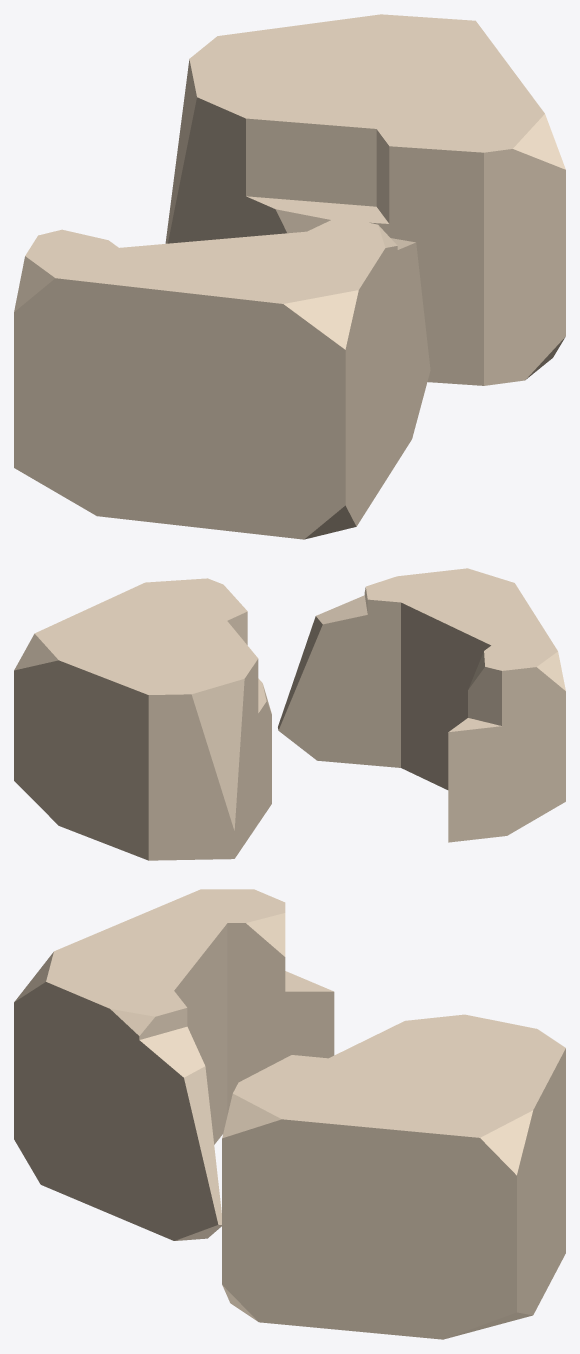
File: Prop_Rubble_2.glb
The picture shows the model from 3 angles, top to bottom: view 1: azimuth 30°, elevation 25°; view 2: azimuth 150°, elevation 25°; view 3: azimuth 270°, elevation 25°; orthographic projection. The views are drawn at different scales.
Parts seen in each view (by area): view 1: Prop_Rubble_2; view 2: Prop_Rubble_2; view 3: Prop_Rubble_2.
Boxes of the visible parts, x1,y1,x2,y2 form: Prop_Rubble_2: (14,14,565,539); Prop_Rubble_2: (14,568,565,860); Prop_Rubble_2: (14,889,565,1339).
Size of the model in its own units: 0.4128 by 0.15 by 0.3657.
